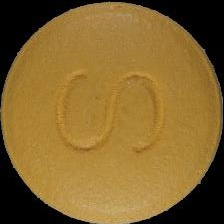21695-348: (0, 0, 224, 224)
